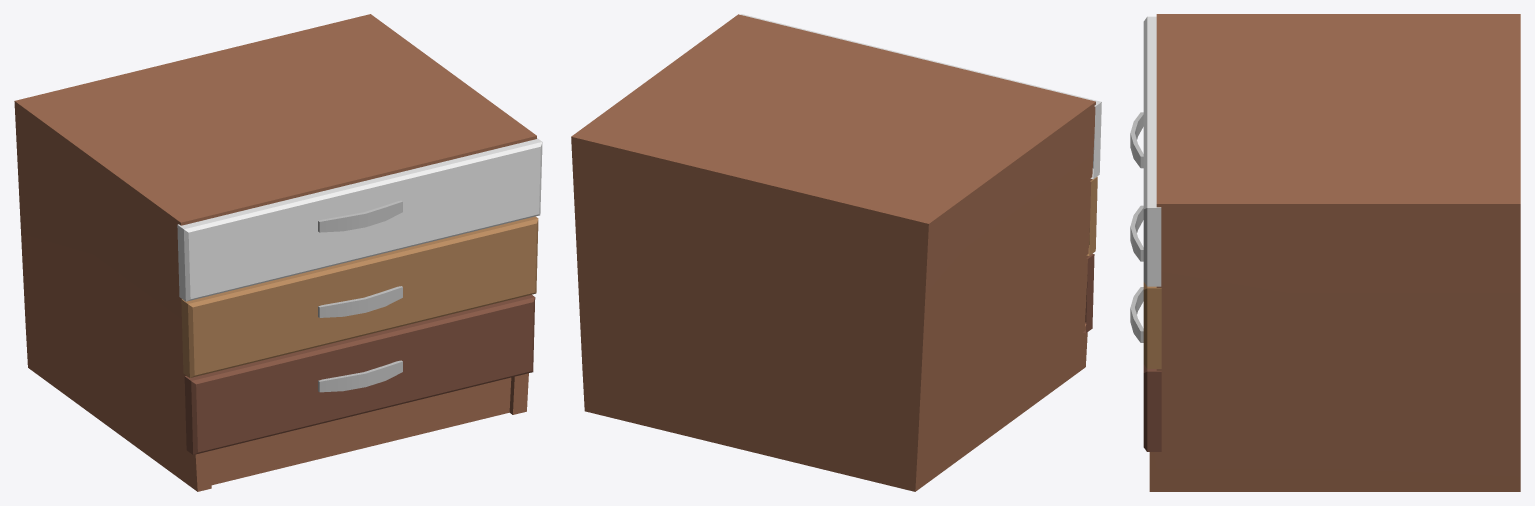
The model's file is bedside table 2.fbx.
3 views of the same model, side by side, from view 1: azimuth 30°, elevation 25°; view 2: azimuth 150°, elevation 25°; view 3: azimuth 270°, elevation 25° (orthographic). The views are drawn at different scales.
Visible parts, largest first — view 1: bedside table 2; view 2: bedside table 2; view 3: bedside table 2.
Part boxes in pixels (x1=…): bedside table 2: x1=14, y1=14, x2=542, y2=491; bedside table 2: x1=571, y1=14, x2=1101, y2=491; bedside table 2: x1=1130, y1=14, x2=1520, y2=491.
Bounding box in the file's own units: 166 × 120 × 143.
